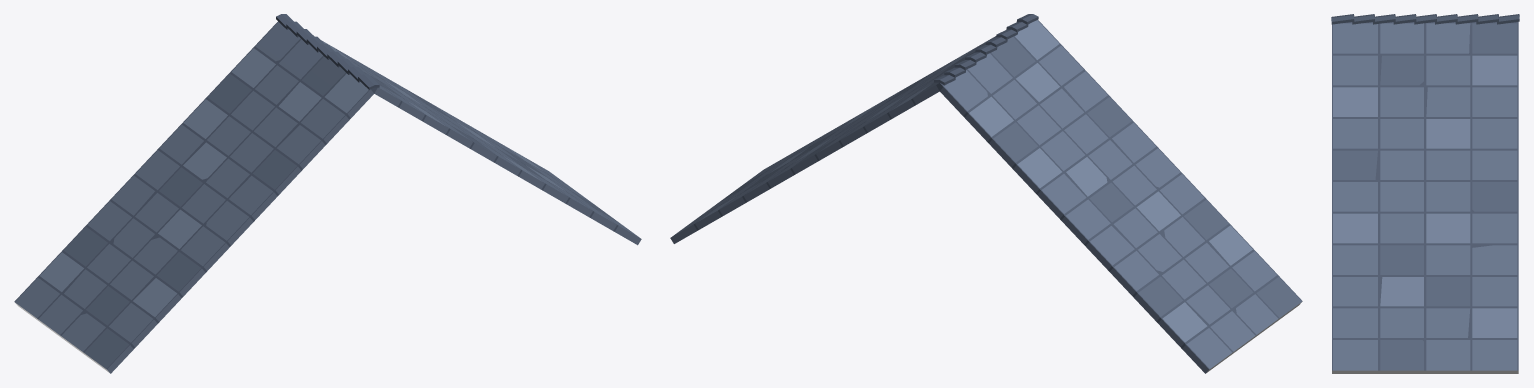
The model's file is Roof2_C7_01.fbx.
The picture shows the model from 3 angles, left to right: view 1: azimuth 30°, elevation 25°; view 2: azimuth 150°, elevation 25°; view 3: azimuth 270°, elevation 25°; orthographic projection.
Visible parts, largest first — view 1: Roof2_C7_01; view 2: Roof2_C7_01; view 3: Roof2_C7_01.
Boxes of the visible parts, box(x1,y1,x2,y2) form: Roof2_C7_01: box(14, 14, 641, 373); Roof2_C7_01: box(670, 14, 1302, 373); Roof2_C7_01: box(1331, 14, 1519, 373).
Size of the model in its own units: 833 by 339 by 252.
